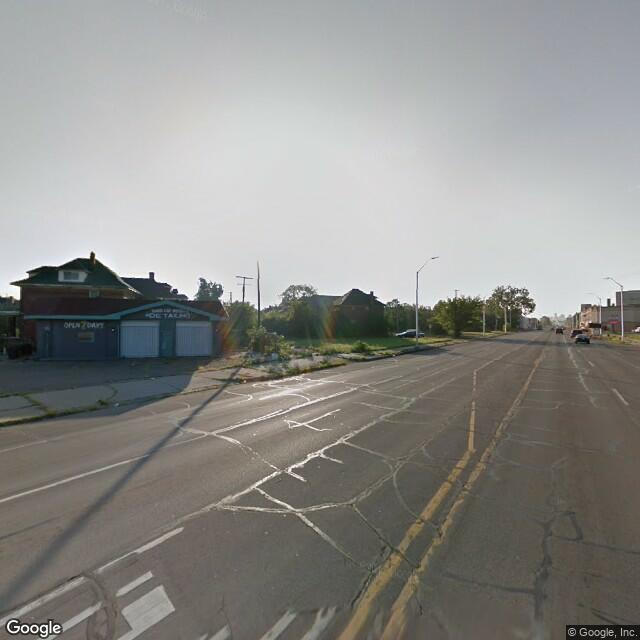litter: (236, 372, 255, 387), (142, 373, 165, 385), (111, 397, 126, 410)
